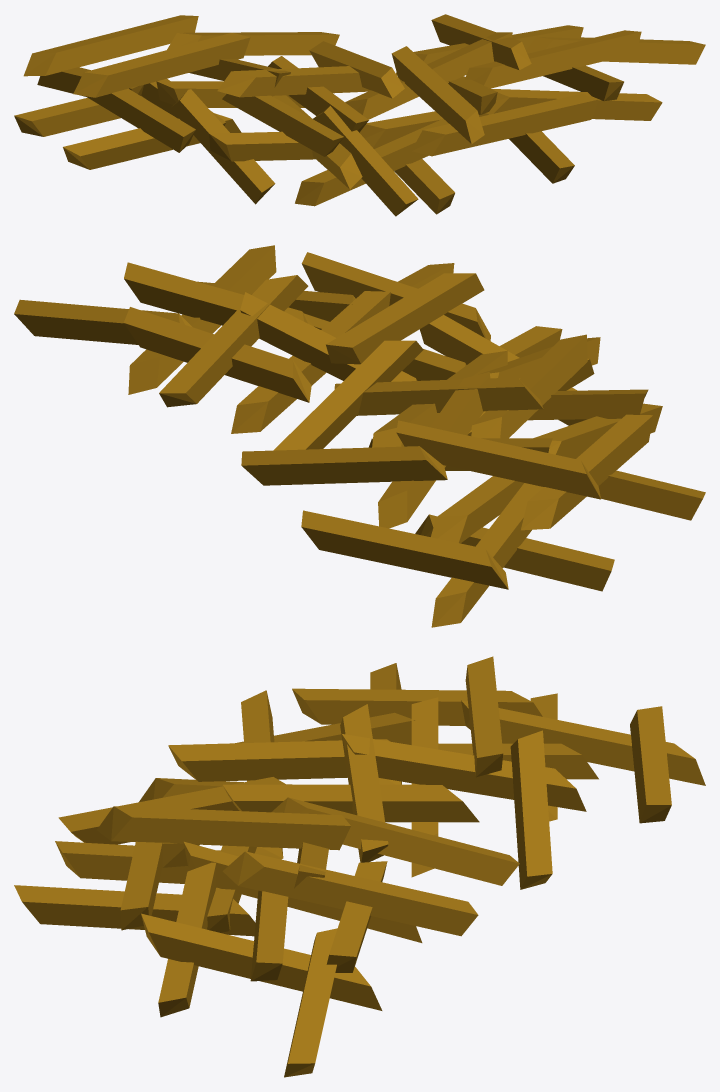
The model's file is friespile.obj.
3 views of the same model, one above another, from view 1: azimuth 30°, elevation 25°; view 2: azimuth 150°, elevation 25°; view 3: azimuth 270°, elevation 25° (orthographic). The views are drawn at different scales.
Visible parts, largest first — view 1: fries_Cube.991; view 2: fries_Cube.991; view 3: fries_Cube.991.
Boxes of the visible parts, x1,y1,x2,y2 form: fries_Cube.991: (14,14,705,216); fries_Cube.991: (14,245,705,627); fries_Cube.991: (14,656,705,1077).
Bounding box in the file's own units: 17.7 × 2.52 × 13.52.
